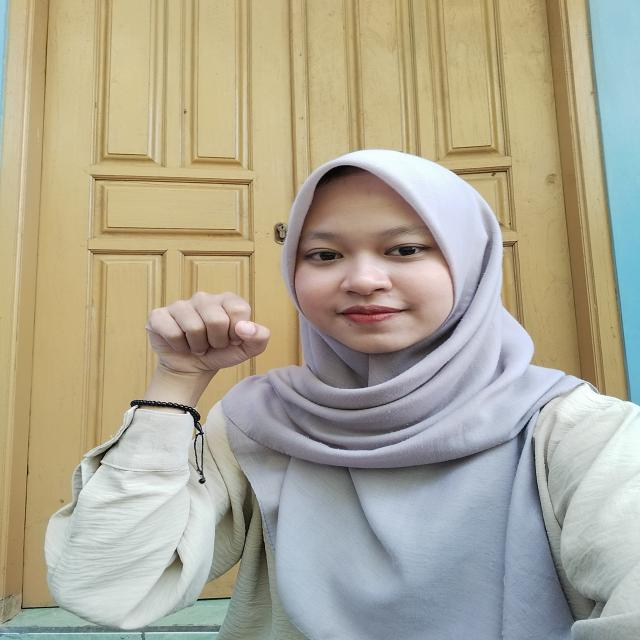baik: (111, 285, 269, 462)
